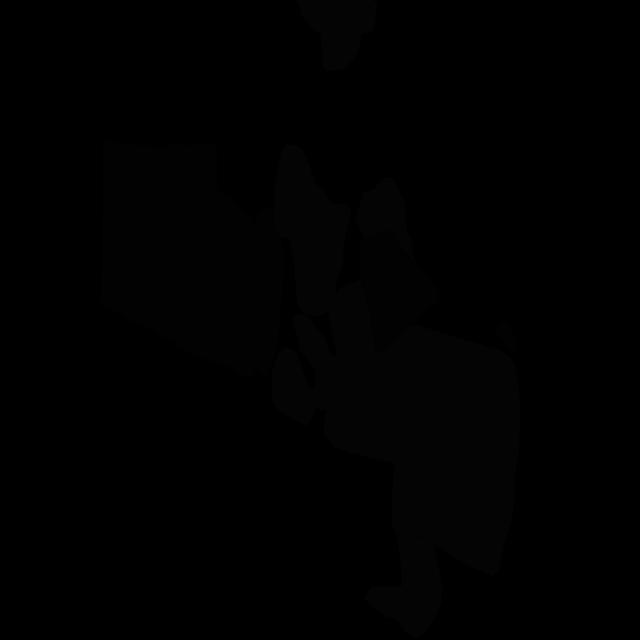cardboard: (100, 140, 255, 368), (227, 206, 284, 380), (360, 229, 440, 352), (496, 321, 516, 352)
soft_plastic: (293, 280, 520, 576), (274, 144, 351, 316), (364, 523, 442, 637), (295, 0, 378, 71), (356, 177, 414, 262), (271, 348, 316, 426)
